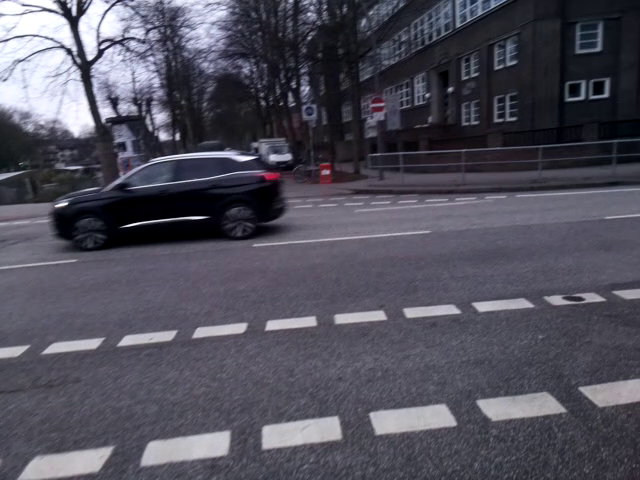car: (40, 148, 291, 249)
